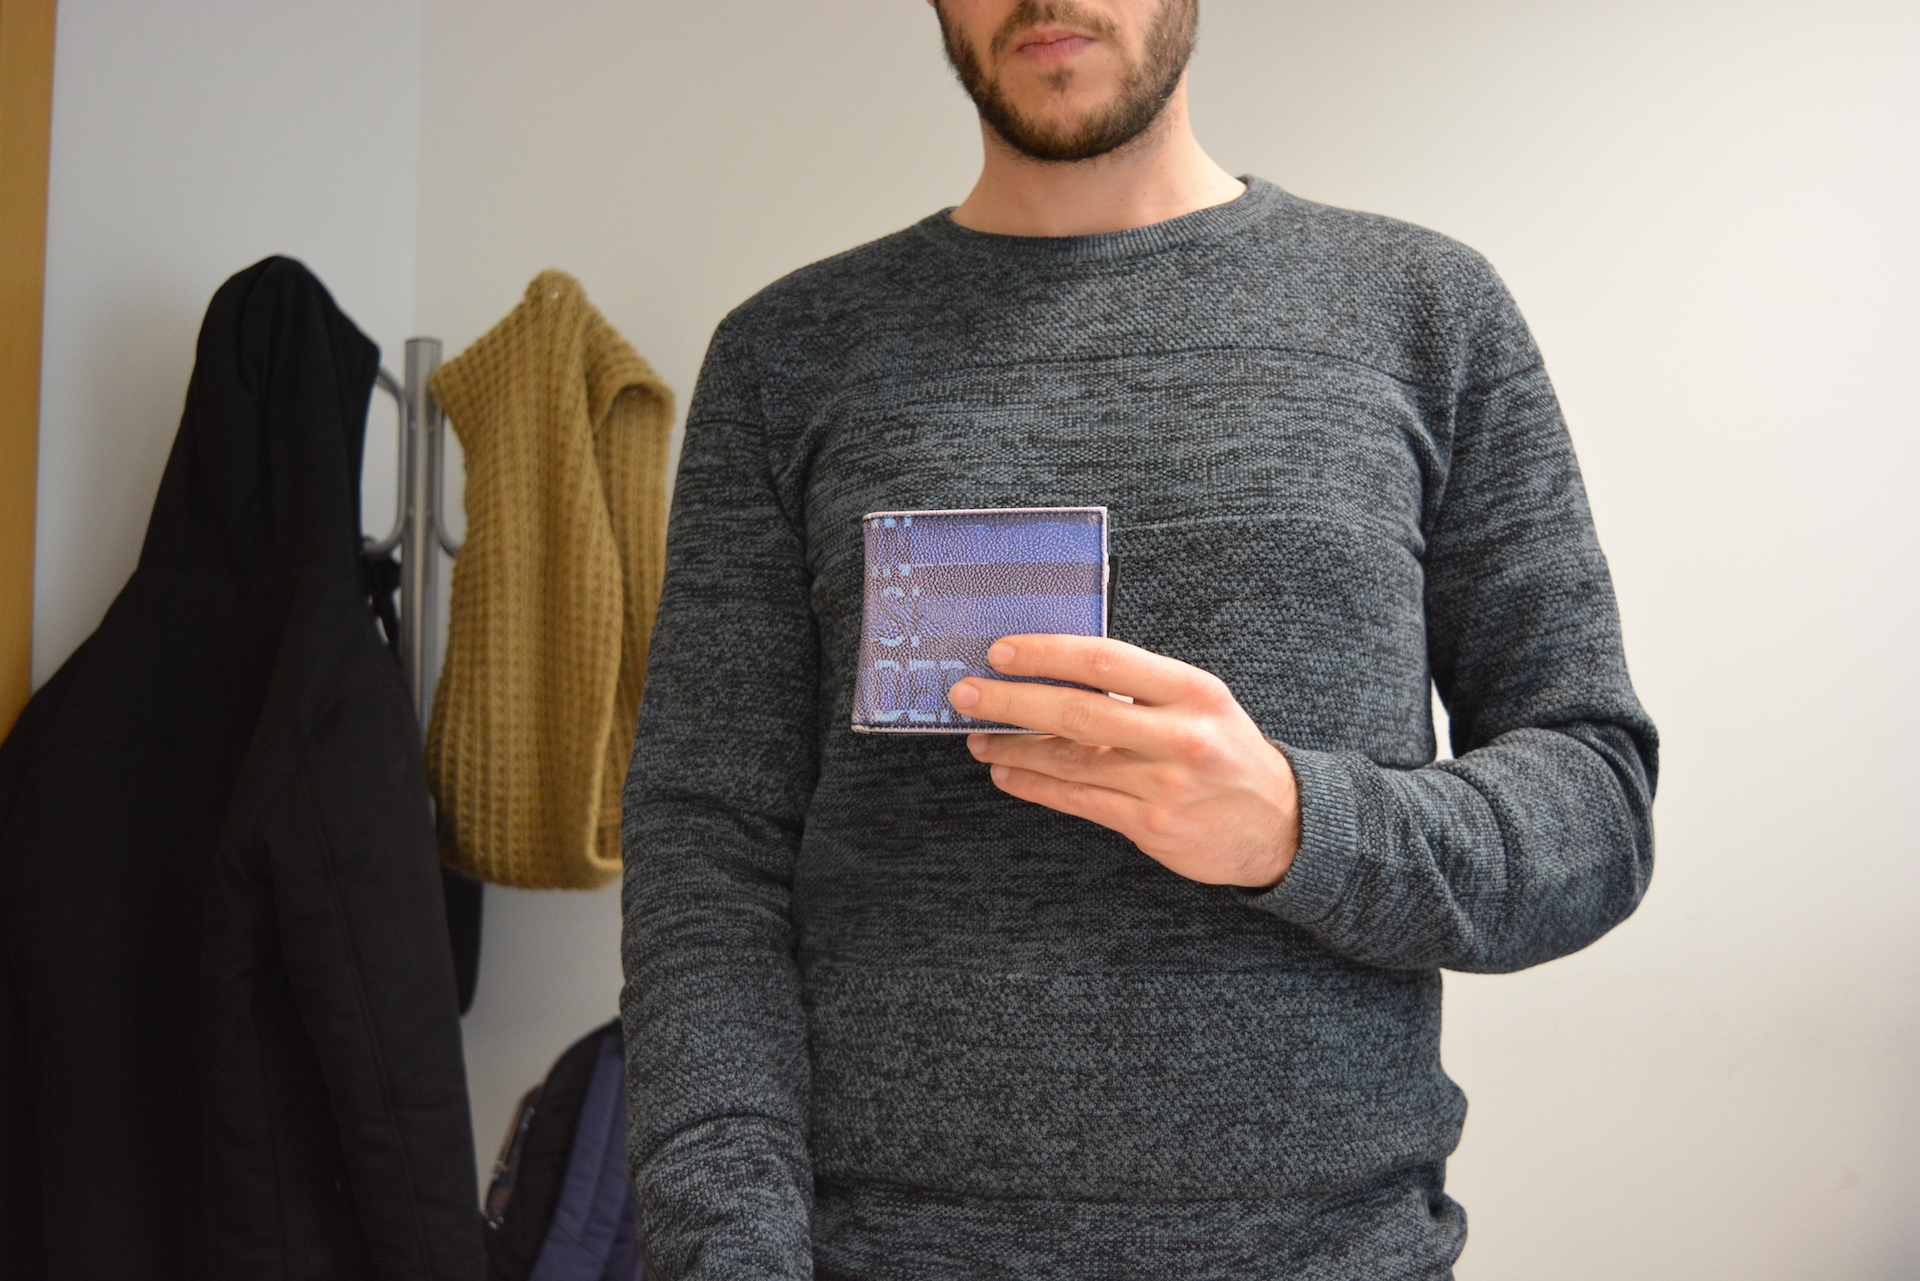monedero: (848, 505, 1124, 738)
